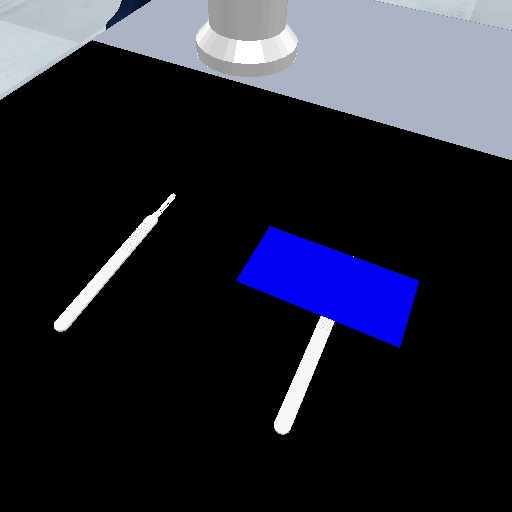bisturi: (48, 188, 181, 336), (267, 312, 337, 437)
